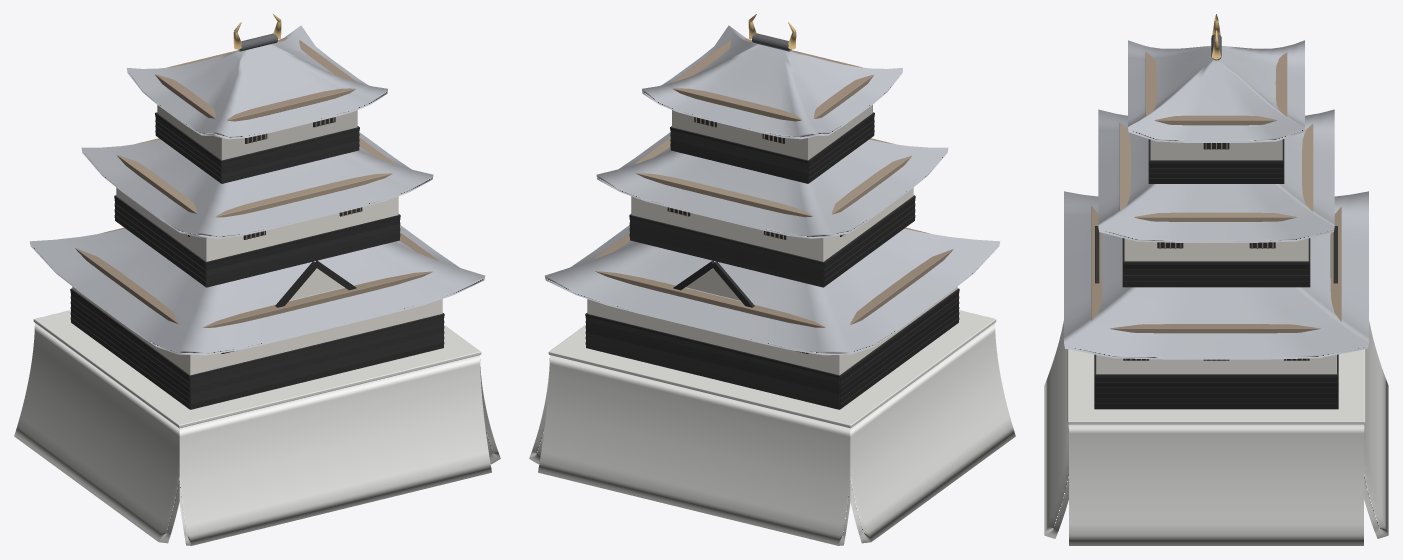
The model's file is tenshu.glb.
3 views of the same model, side by side, from view 1: azimuth 30°, elevation 25°; view 2: azimuth 150°, elevation 25°; view 3: azimuth 270°, elevation 25° (orthographic). The views are drawn at different scales.
Visible parts, largest first — view 1: tenshu; view 2: tenshu; view 3: tenshu.
Boxes of the visible parts, x1=… form: tenshu: x1=14, y1=14, x2=500, y2=545; tenshu: x1=529, y1=14, x2=1015, y2=545; tenshu: x1=1044, y1=14, x2=1388, y2=545.
Bounding box in the file's own units: 17.08 × 20.65 × 14.58.
